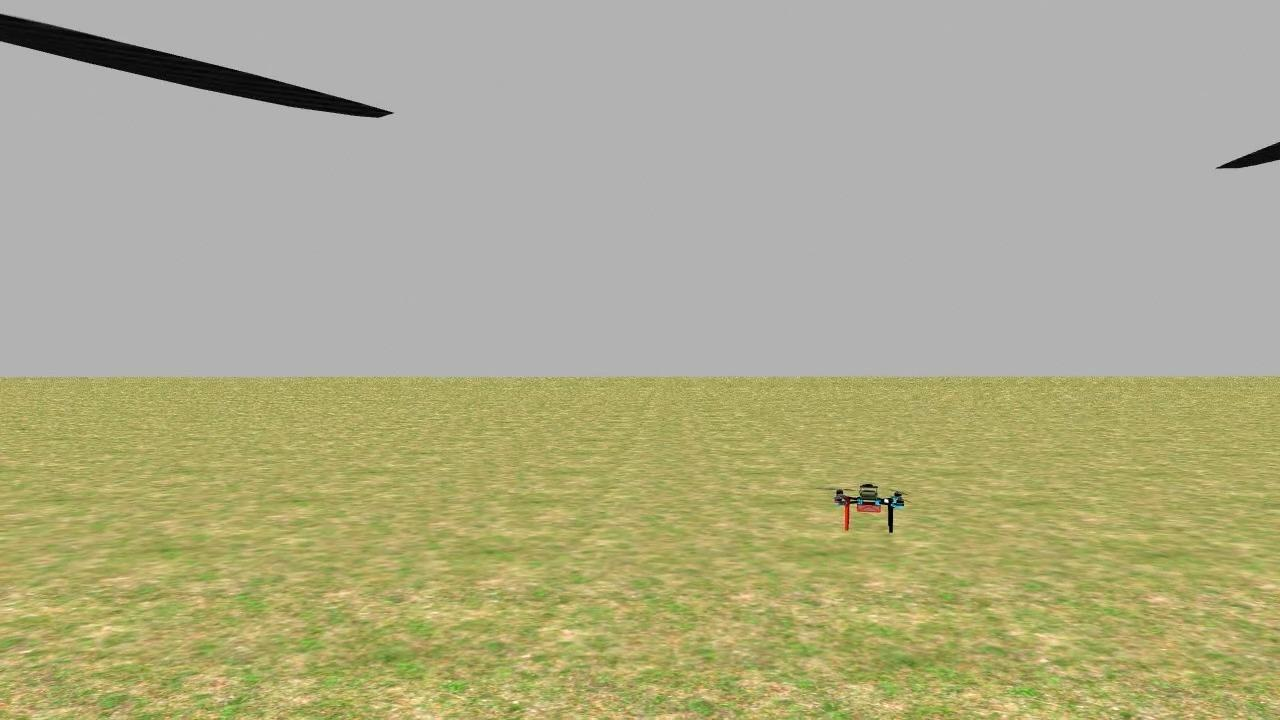UAV: (824, 472, 914, 540)
